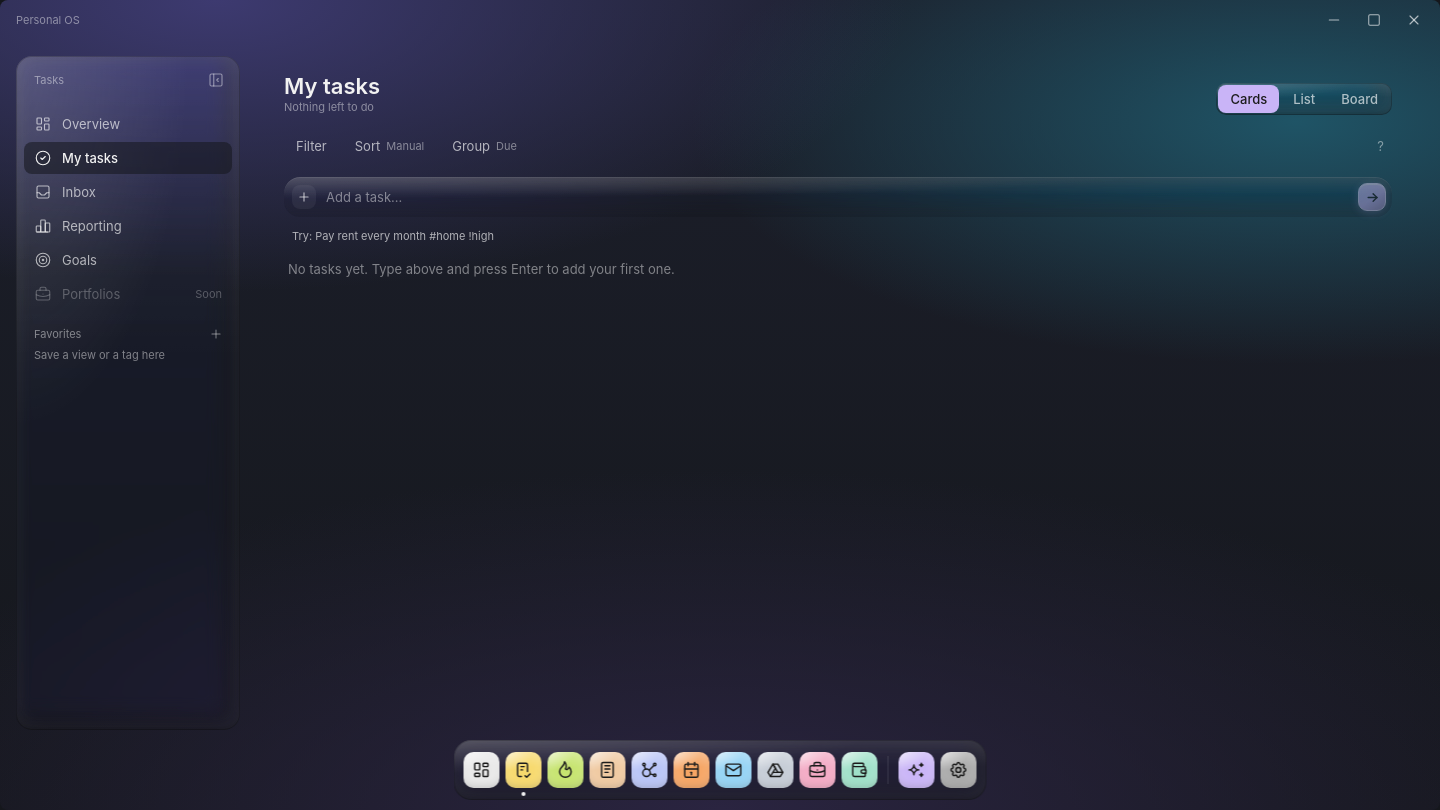
Scenario: the + menu › adds a search field over 8 tags and filters by it
This screenshot has width=1440, height=810.
Step 1. Click the button named "Add favorite" → (216,334), box x1=204 y1=322 x2=228 y2=346
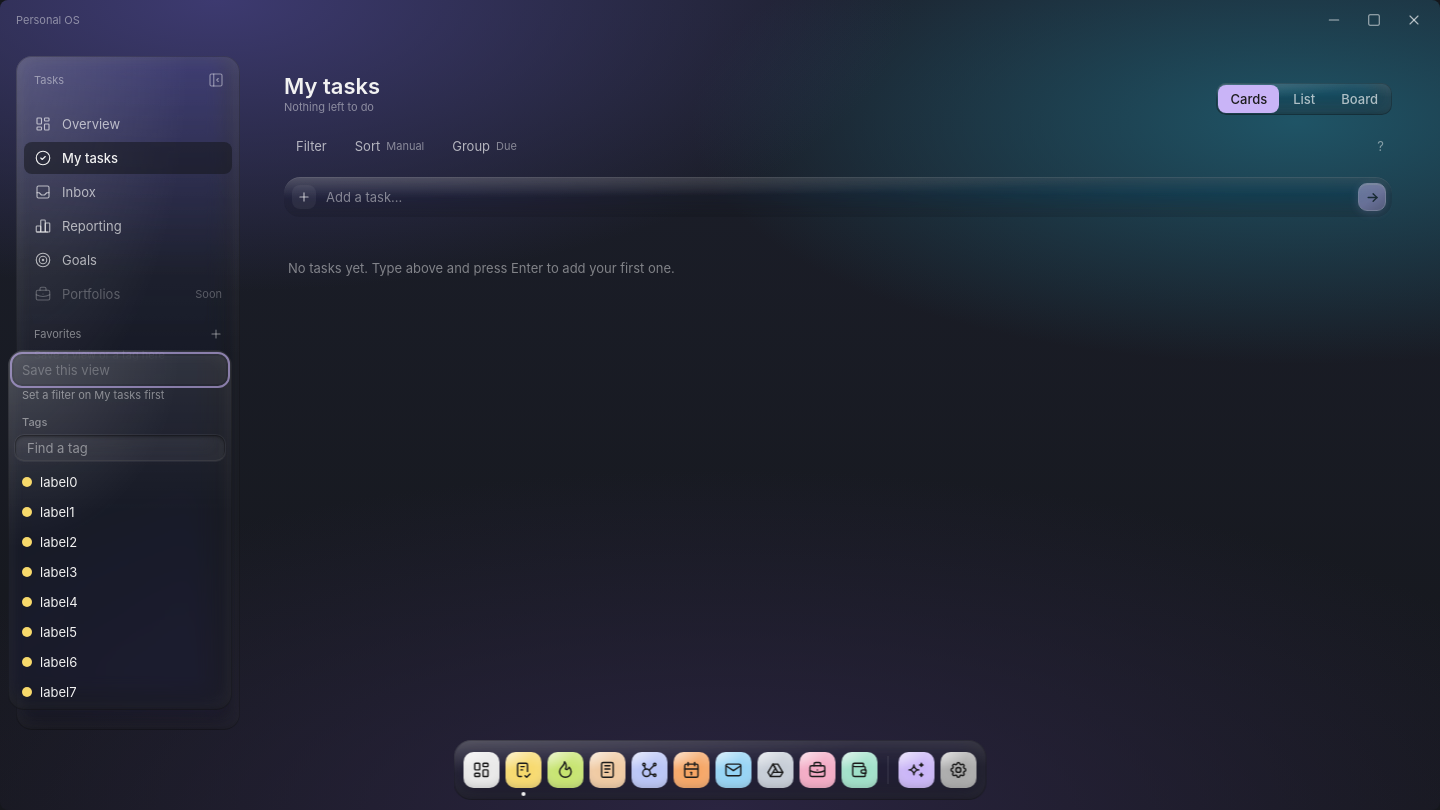
Check: the number of menu items is 10
Step 2. Type "label7" into the field labelled "Find a tag" → (120,448), box x1=14 y1=434 x2=226 y2=462
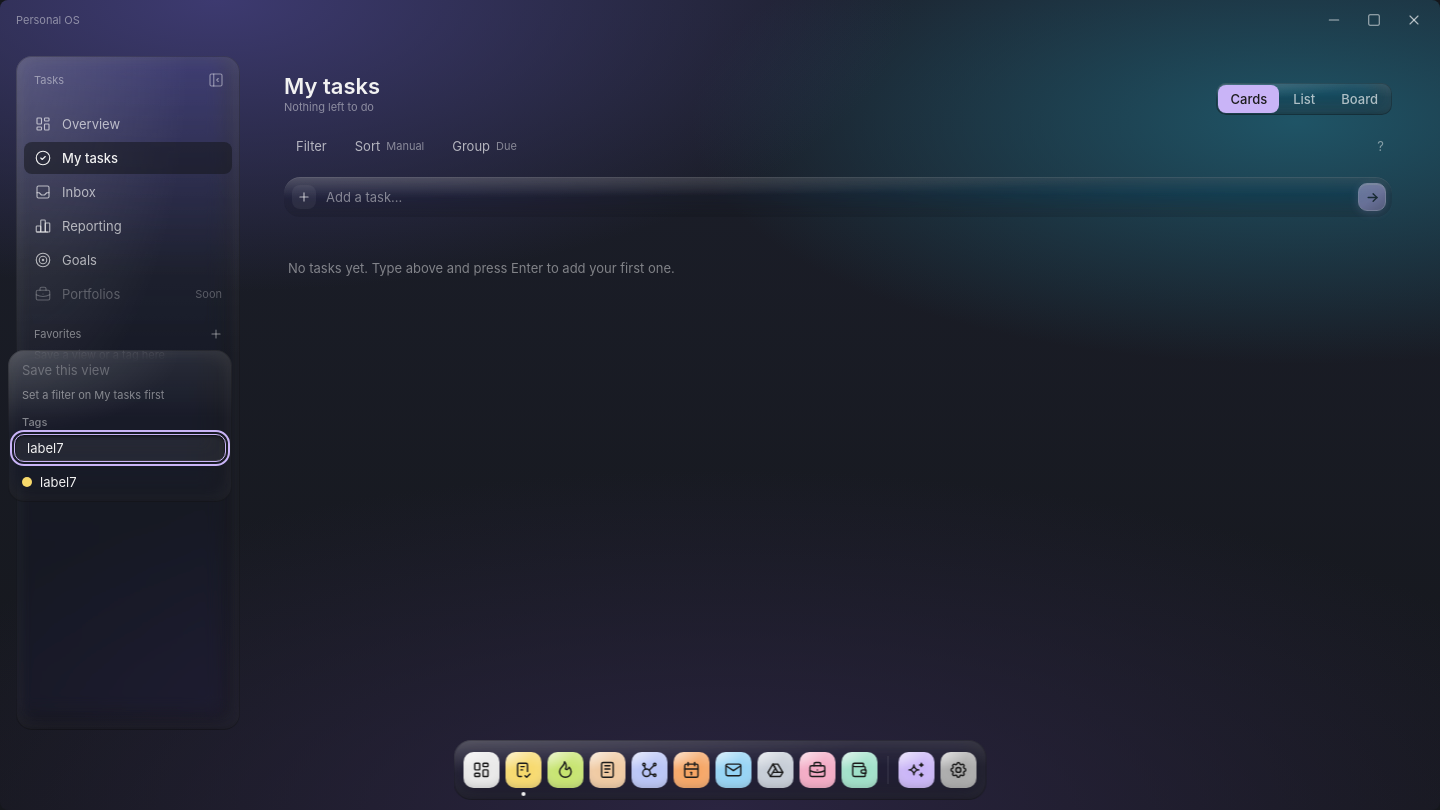
Check: the menu items read "Save this view", "label7", in this order, box x1=14 y1=356 x2=226 y2=384; x1=14 y1=468 x2=226 y2=496
Step 3. Replace the text in the field named "Find a tag" with "nothing" → (120,448), box x1=14 y1=434 x2=226 y2=462
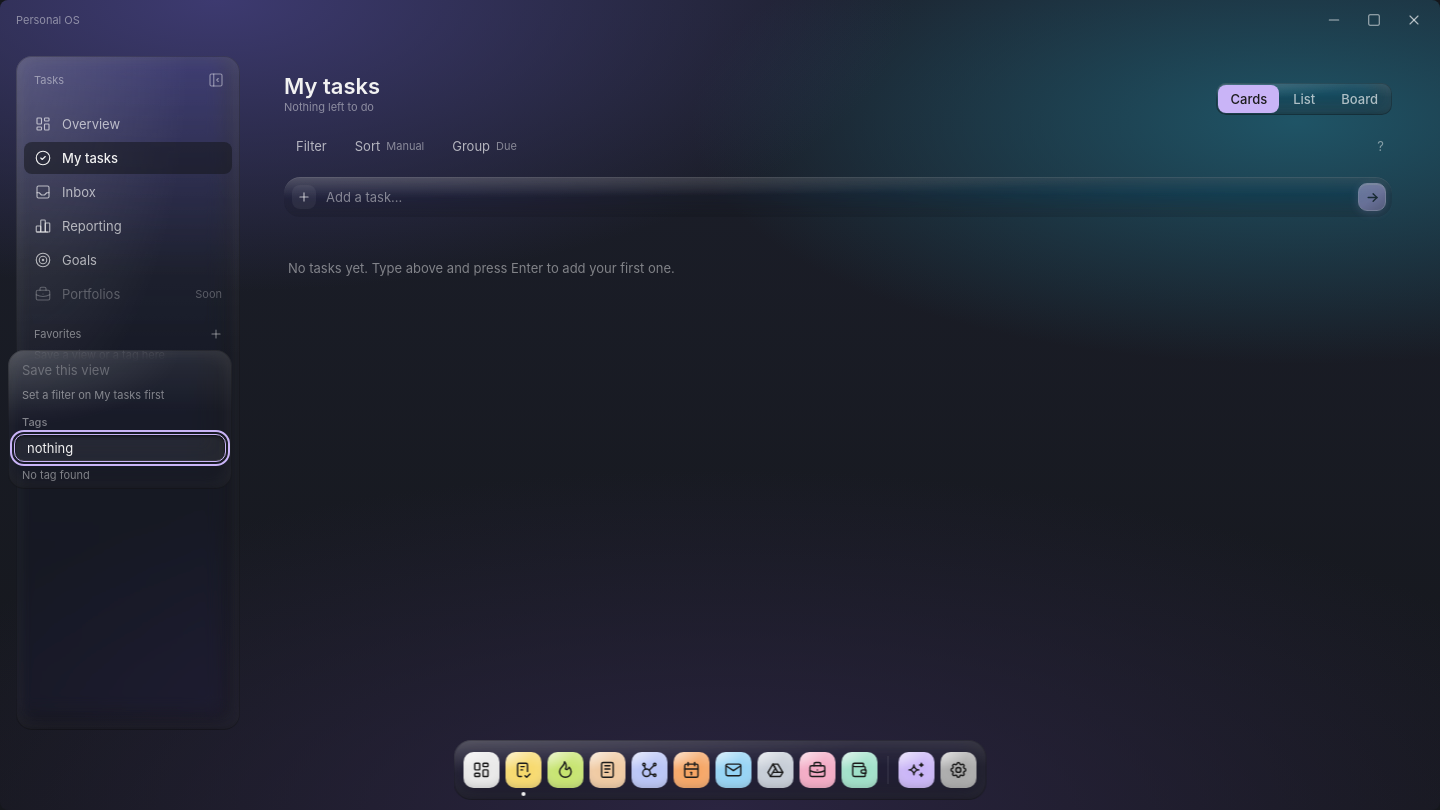
Check: the text "No tag found" is shown, box x1=22 y1=468 x2=90 y2=482
